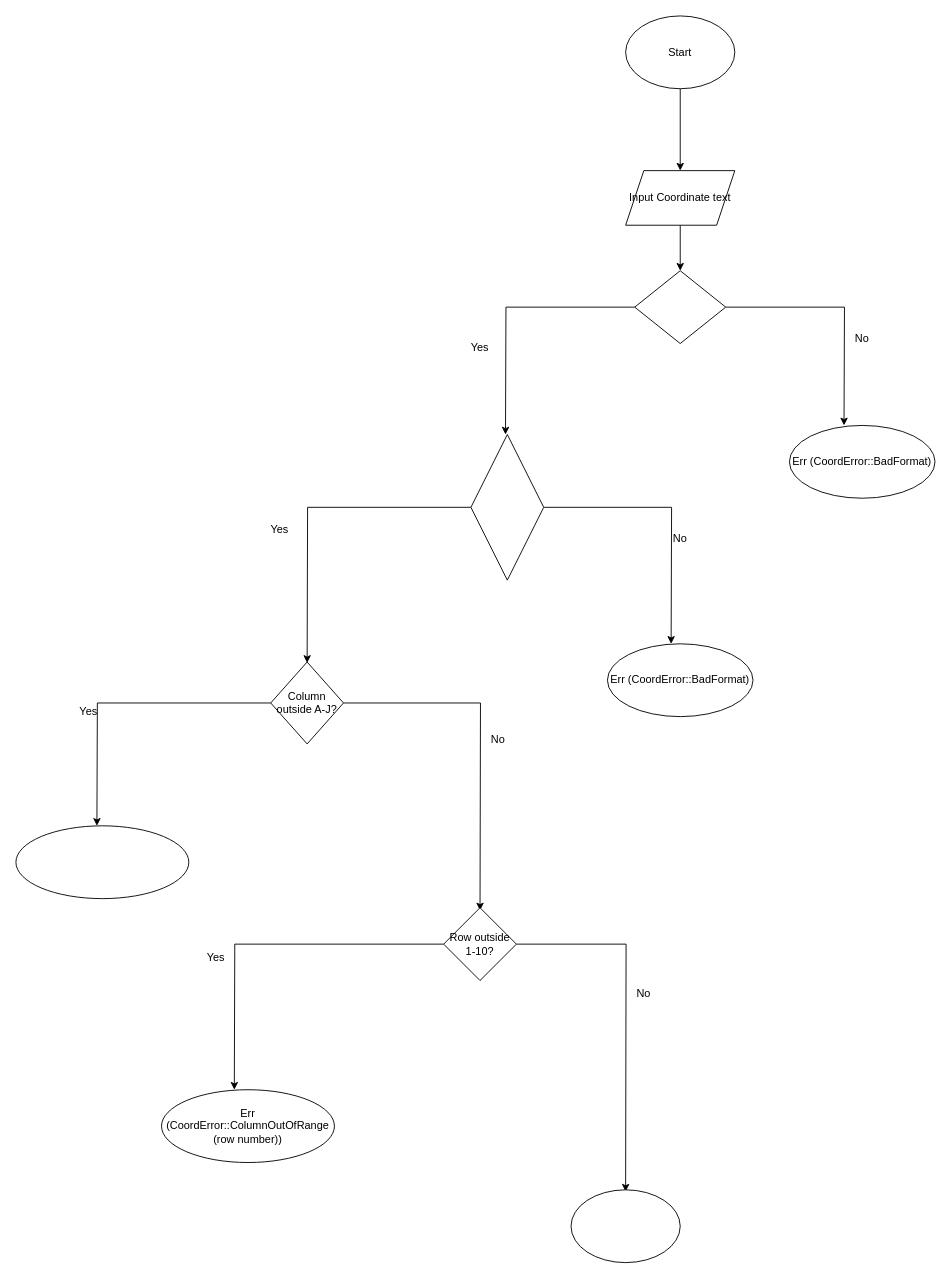
Image size: 951x1279. Some labels were removed from this diagram. The centre of each missing label's shape, as x and y in pixels:
Err (CoordError::ColumnOutOfRange (uppercase column)): the point at 102,862
Exactly 2 characters?: the point at 680,307
Ok ((row number - 1, column)): the point at 625,1226
Second character parses as a number?: the point at 507,507
